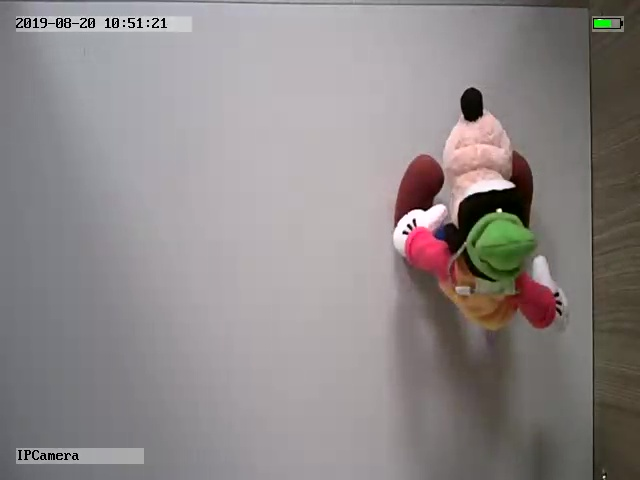goofy: (392, 85, 569, 333)
